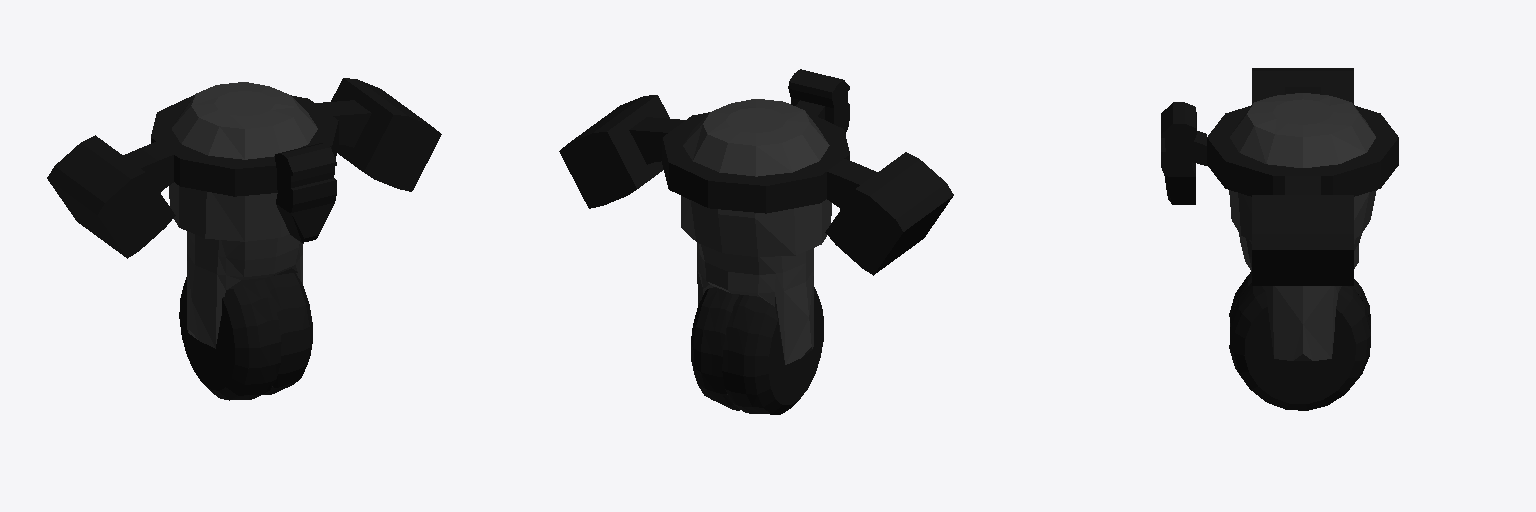
The model's file is Drone.Wheel.obj.
3 renders of one model, left to right at view 1: azimuth 30°, elevation 25°; view 2: azimuth 150°, elevation 25°; view 3: azimuth 270°, elevation 25°, orthographic.
Parts seen in each view (by area): view 1: Figure_1; view 2: Figure_1; view 3: Figure_1.
Part boxes in pixels (left/top/right/bottom): Figure_1: left=47, top=78, right=441, bottom=400; Figure_1: left=559, top=69, right=953, bottom=414; Figure_1: left=1161, top=68, right=1398, bottom=410.
Bounding box in the file's own units: 1.26 × 1 × 0.7516.